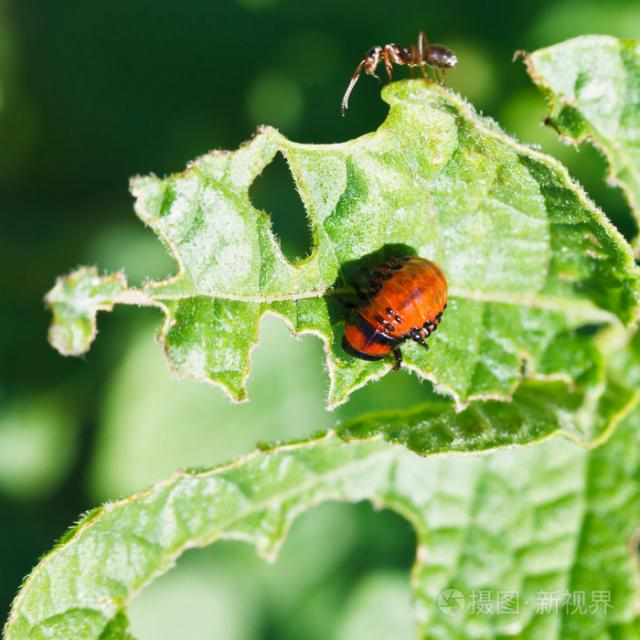ShuCaiHuaBanChong-Larva-: (316, 247, 517, 395)
